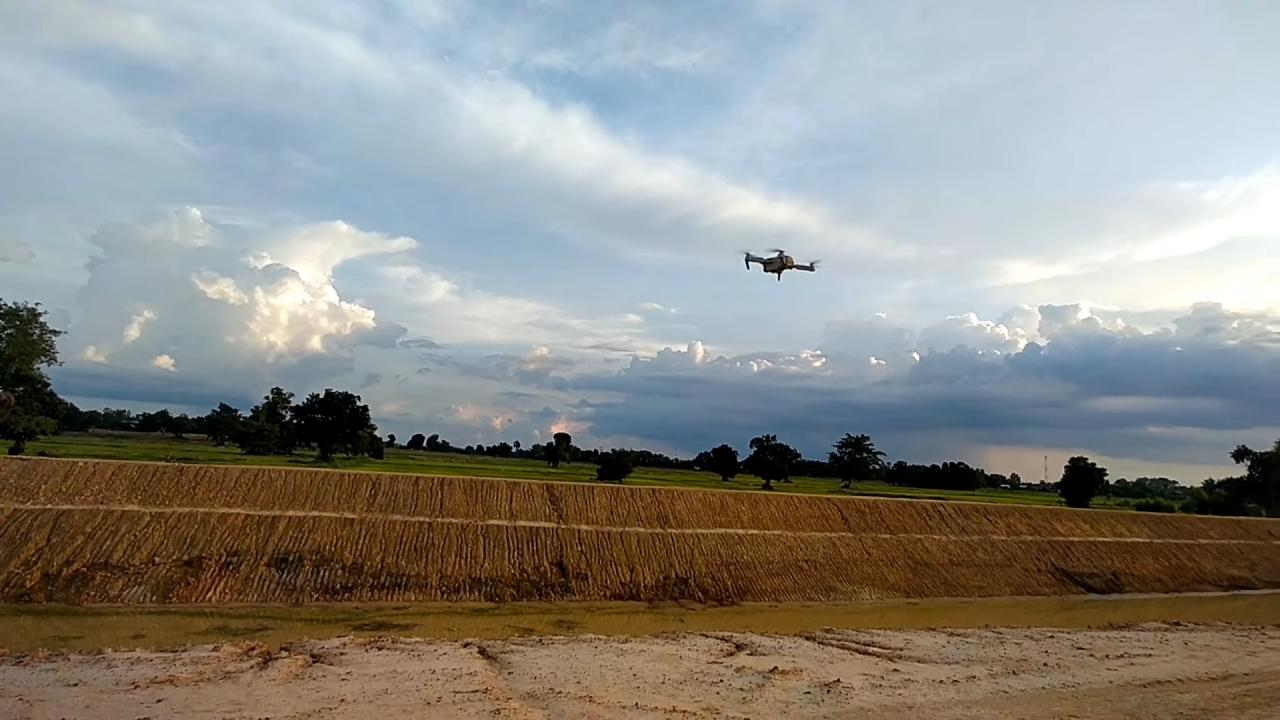Drone: (724, 236, 831, 291)
